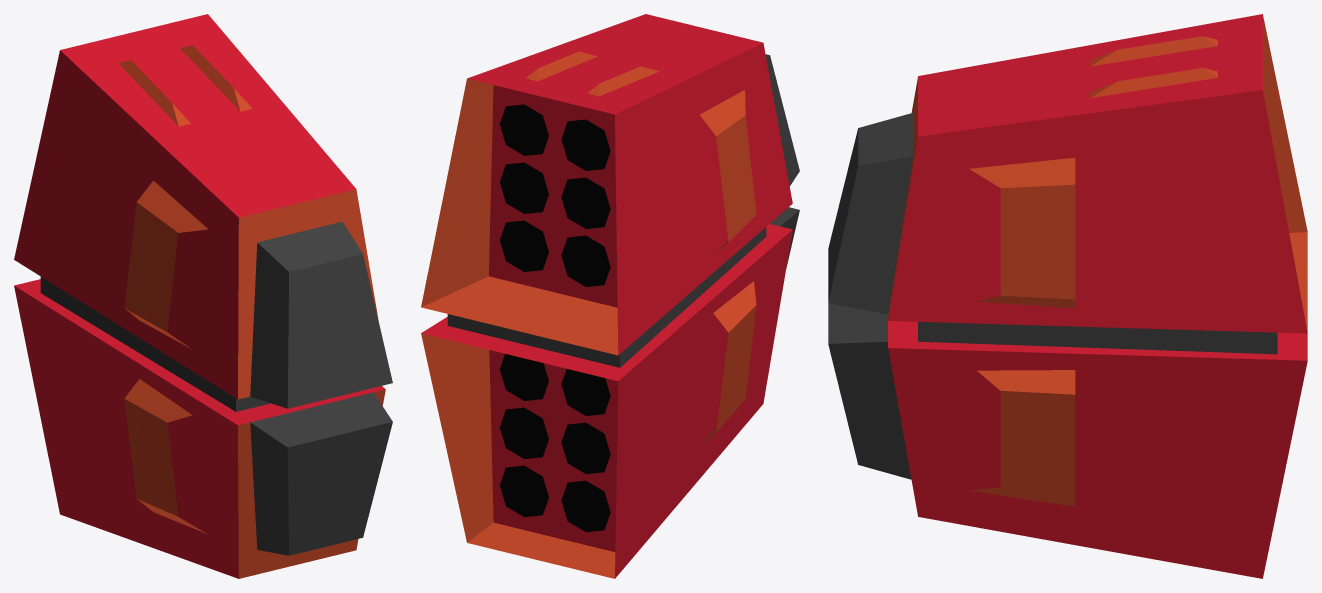
Rendered from missile.FBX.
3 renders of one model, left to right at view 1: azimuth 30°, elevation 25°; view 2: azimuth 150°, elevation 25°; view 3: azimuth 270°, elevation 25°, orthographic. The views are drawn at different scales.
Parts seen in each view (by area): view 1: VIFS001, VIFS003, VIFS002; view 2: VIFS001, VIFS002, VIFS004, VIFS003; view 3: VIFS001, VIFS002, VIFS003.
Boxes of the visible parts, bbox=[...] form: VIFS001: bbox=[14, 14, 385, 578]; VIFS003: bbox=[40, 221, 392, 555]; VIFS002: bbox=[118, 45, 385, 578]; VIFS001: bbox=[421, 14, 792, 578]; VIFS002: bbox=[421, 51, 756, 578]; VIFS004: bbox=[499, 104, 610, 532]; VIFS003: bbox=[447, 54, 799, 367]; VIFS001: bbox=[888, 14, 1307, 578]; VIFS002: bbox=[888, 16, 1307, 506]; VIFS003: bbox=[828, 113, 1277, 479].
Bounding box in the file's own units: 1.81 × 4.08 × 3.63.
